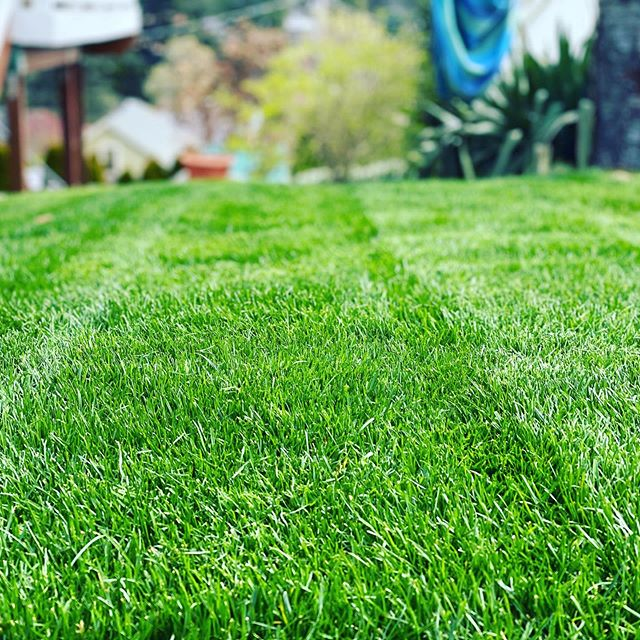grass: (9, 177, 640, 640)
